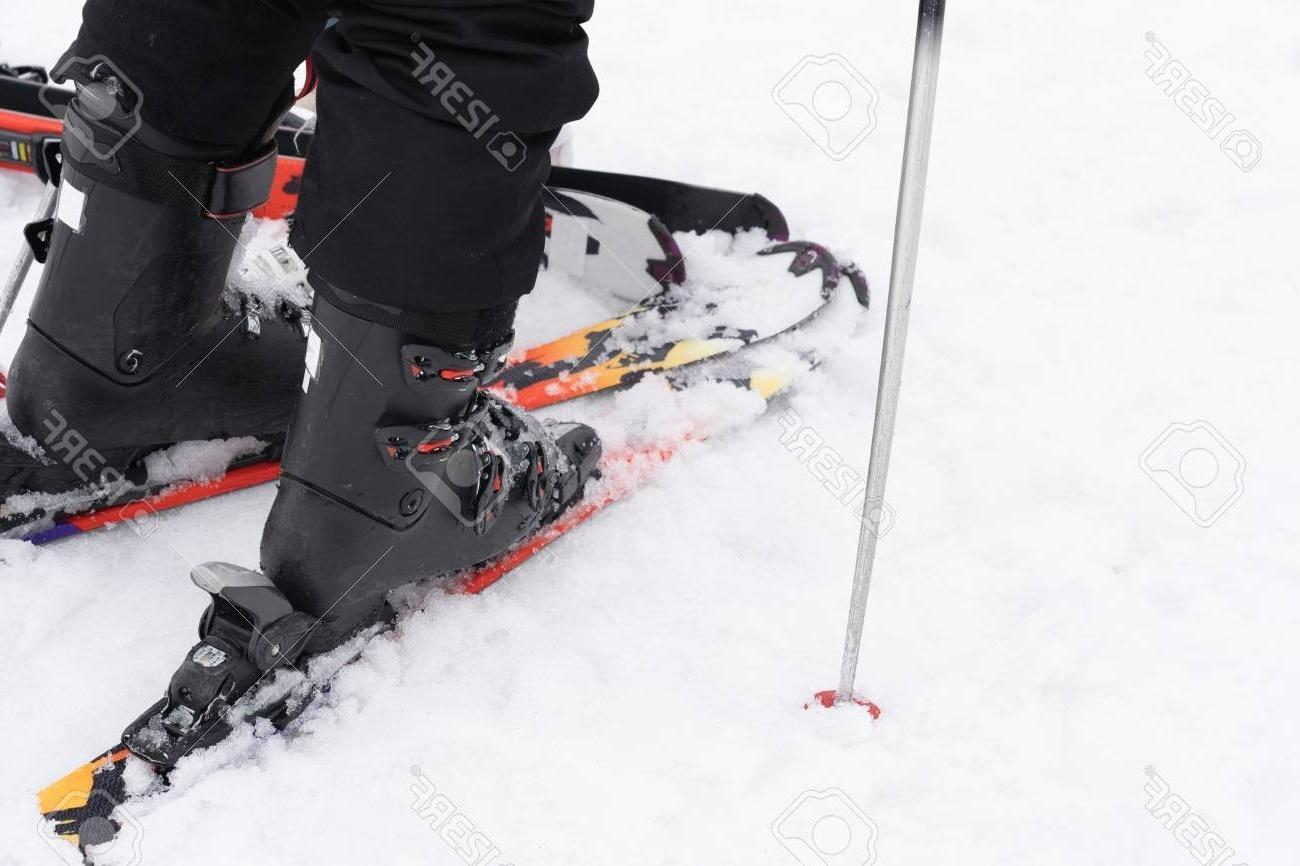Skis: (0, 68, 838, 866)
